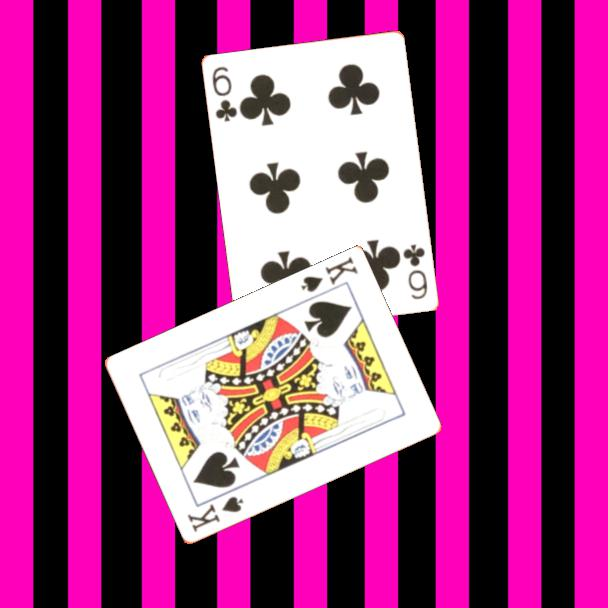c06: (400, 241, 431, 303), (209, 63, 240, 125)
s13: (297, 253, 361, 296), (183, 493, 246, 535)
